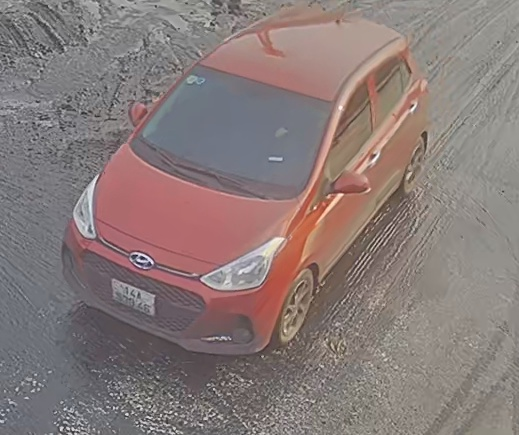vehicle plate: (111, 275, 156, 322)
